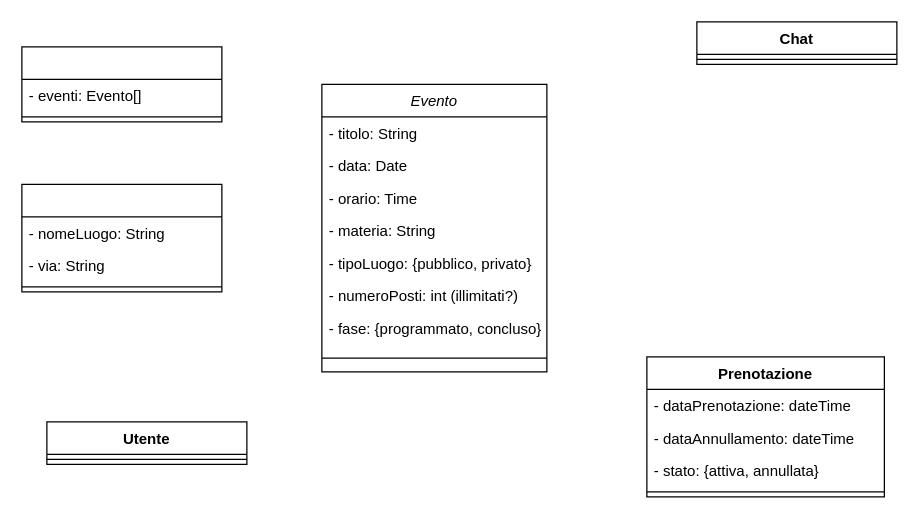
The diagram is 919 pixels wide and 519 high, and some of its shapes have lost their labels. Here are the shapes that lost their labels. From the top down, the box of each, then its label:
(21, 46, 222, 122): Bacheca
(21, 183, 222, 292): Indirizzo
